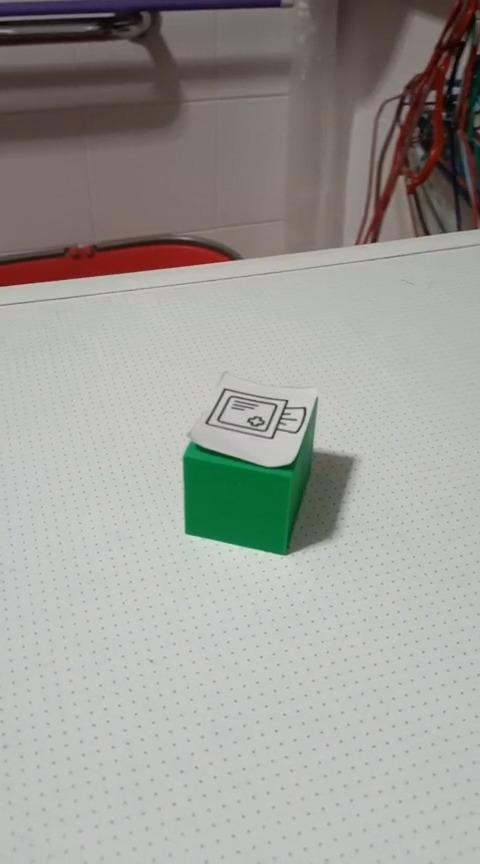Gauze: (181, 369, 319, 555)
